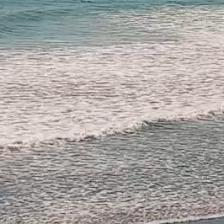surfer: (79, 0, 93, 4), (114, 0, 123, 1)
